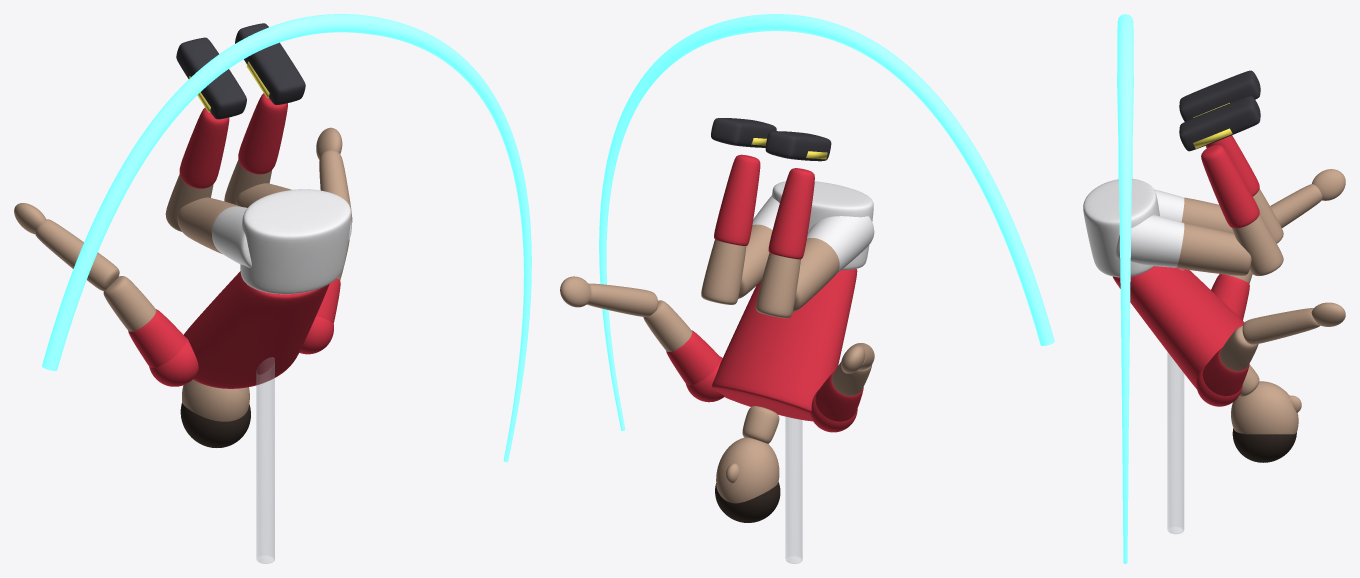
Rendered from reward-celeb-backflip.glb.
3 renders of one model, left to right at view 1: azimuth 30°, elevation 25°; view 2: azimuth 150°, elevation 25°; view 3: azimuth 270°, elevation 25°, orthographic. The views are drawn at different scales.
Parts seen in each view (by area): view 1: trail, Cone.001, Cone, rod, Cone.016, Cone.009, Cube.002, Cube, Sphere, Cone.012, Cone.010, Sphere.001 (+10 smaller); view 2: trail, Cone.001, Sphere, Cone.009, Cone.016, rod, Cone, Cone.015, Cone.008, Cone.013, Cone.014, Cone.005 (+12 smaller); view 3: Cone.001, trail, Cone, rod, Cone.007, Sphere, Cone.009, Cone.006, Cube, Cube.002, Cone.005, Cone.008 (+13 smaller).
Boxes of the visible parts, x1,y1,x2,y2 form: trail: [42, 14, 531, 462]; Cone.001: [183, 271, 329, 388]; Cone: [240, 189, 351, 294]; rod: [256, 357, 274, 563]; Cone.016: [179, 107, 229, 188]; Cone.009: [238, 93, 287, 174]; Cube.002: [176, 37, 246, 119]; Cube: [235, 23, 305, 104]; Sphere: [182, 379, 249, 421]; Cone.012: [35, 219, 119, 290]; Cone.010: [128, 309, 186, 367]; Sphere.001: [180, 402, 250, 447]; trail: [599, 14, 1054, 430]; Cone.001: [712, 269, 857, 421]; Sphere: [716, 437, 779, 503]; Cone.009: [714, 154, 760, 245]; Cone.016: [768, 168, 814, 259]; rod: [785, 417, 802, 563]; Cone: [772, 181, 873, 269]; Cone.015: [755, 253, 800, 318]; Cone.008: [701, 240, 746, 304]; Cone.013: [807, 216, 874, 273]; Cone.014: [793, 238, 839, 311]; Cone.005: [587, 283, 657, 316]; Cone.001: [1113, 266, 1244, 388]; trail: [1117, 14, 1133, 563]; Cone: [1083, 178, 1159, 277]; rod: [1167, 268, 1183, 533]; Cone.007: [1176, 223, 1251, 275]; Sphere: [1231, 381, 1298, 434]; Cone.009: [1201, 145, 1259, 228]; Cone.006: [1115, 215, 1184, 267]; Cube: [1179, 96, 1260, 151]; Cube.002: [1179, 70, 1260, 121]; Cone.005: [1242, 308, 1320, 344]; Cone.008: [1232, 214, 1283, 275].
Size of the model in its own units: 3 by 3.29 by 1.56.
